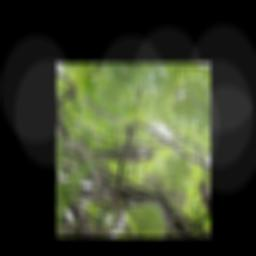Cuckoo: (88, 119, 158, 186)
